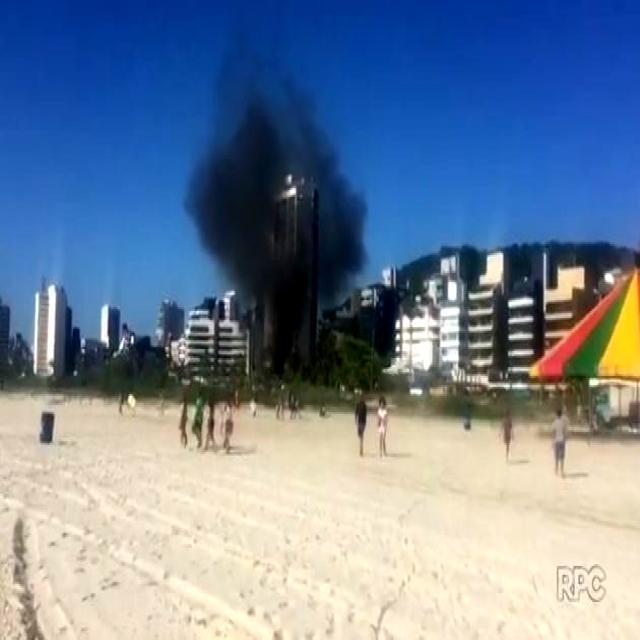Smoke: (182, 45, 372, 375)
